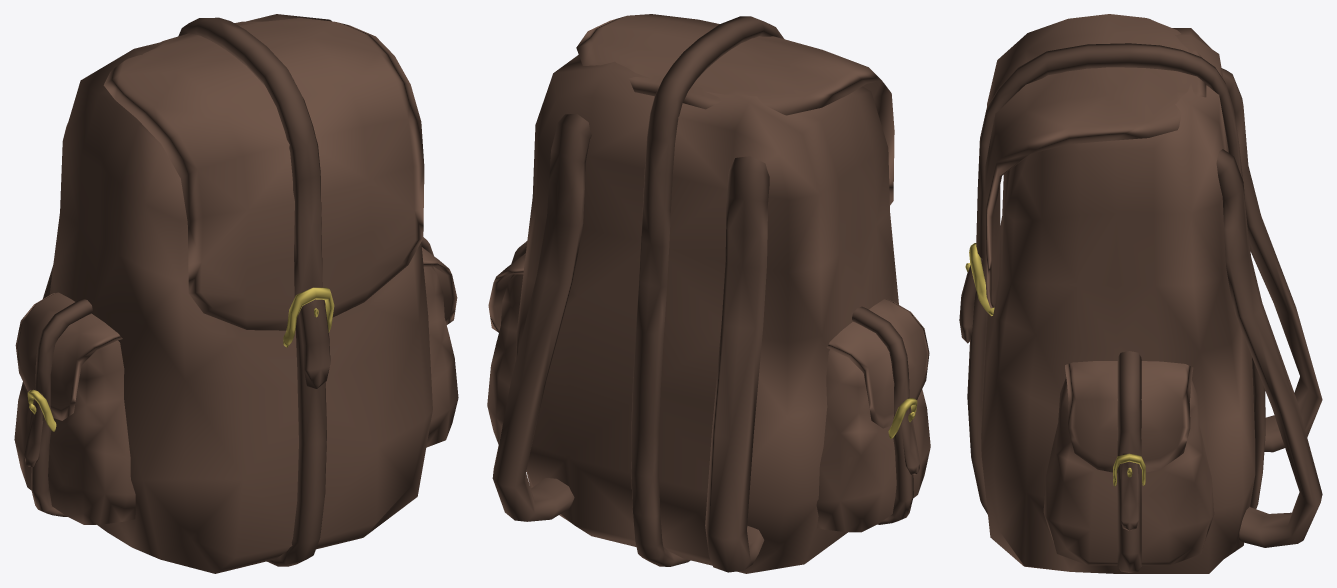
Rendered from backpack.glb.
The picture shows the model from 3 angles, left to right: view 1: azimuth 30°, elevation 25°; view 2: azimuth 150°, elevation 25°; view 3: azimuth 270°, elevation 25°; orthographic projection.
Visible parts, largest first — view 1: Backpack; view 2: Backpack; view 3: Backpack.
Part boxes in pixels (box(x1,y1,x2,y2)): Backpack: box(14, 14, 458, 573); Backpack: box(487, 14, 930, 573); Backpack: box(959, 14, 1322, 573).
Size of the model in its own units: 0.7471 by 0.8555 by 0.5626.
